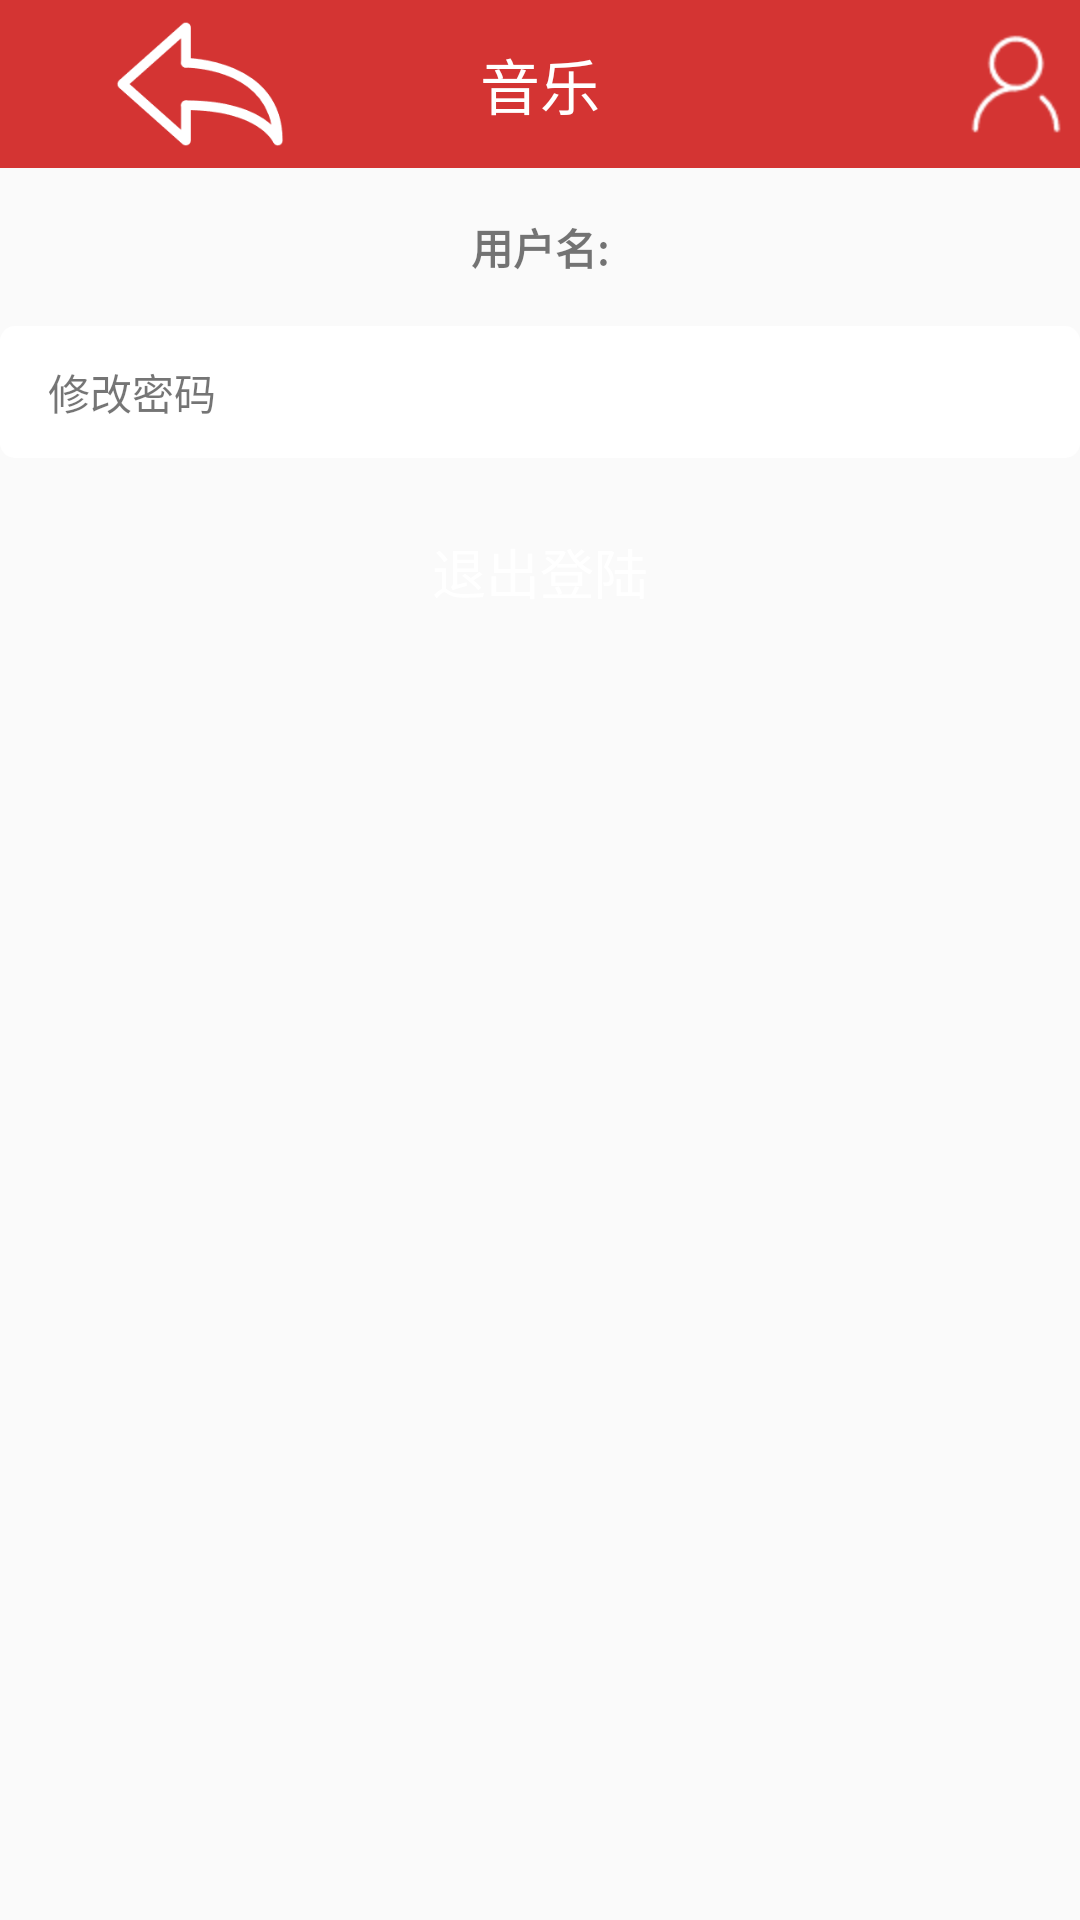

Icons on this 1080px x 1920px Android screen, each with its box as [x1, y1, x2, y2]:
back: [117, 22, 283, 146]
